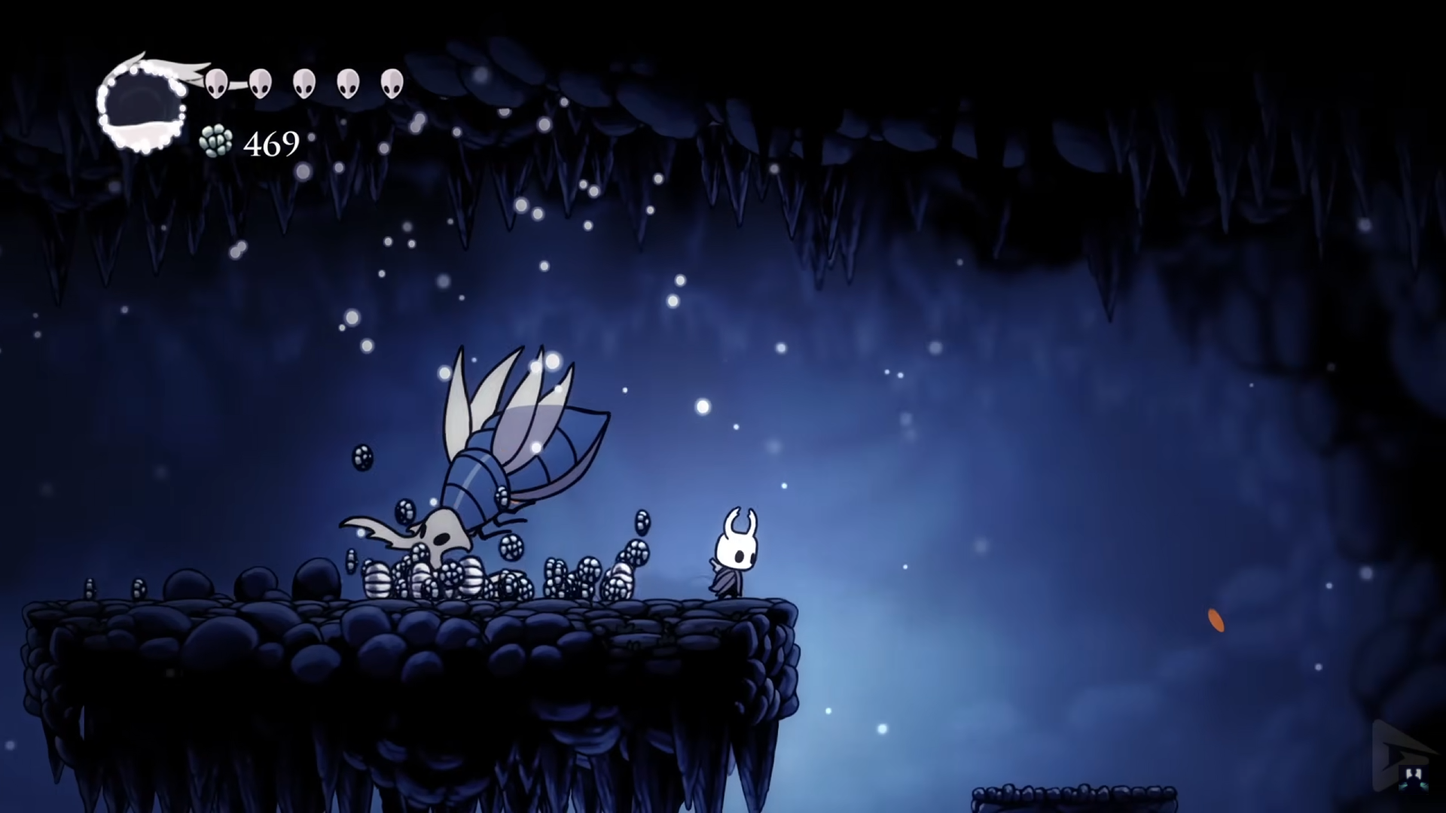HK: (705, 501, 763, 601)
